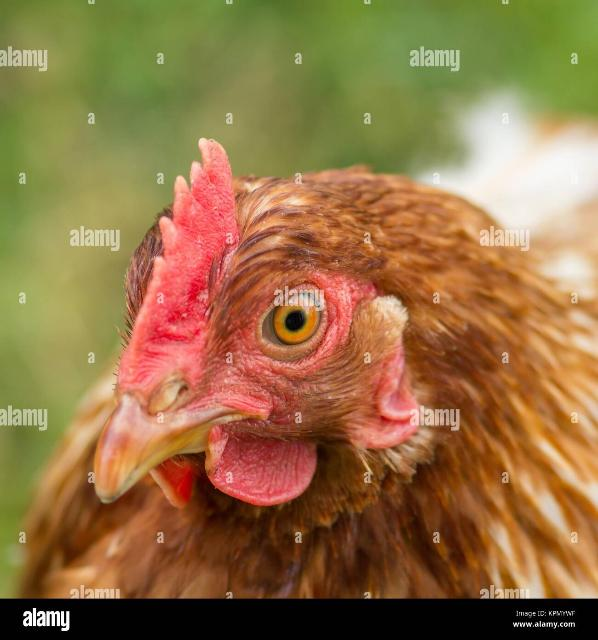Chicken: (21, 135, 598, 598)
